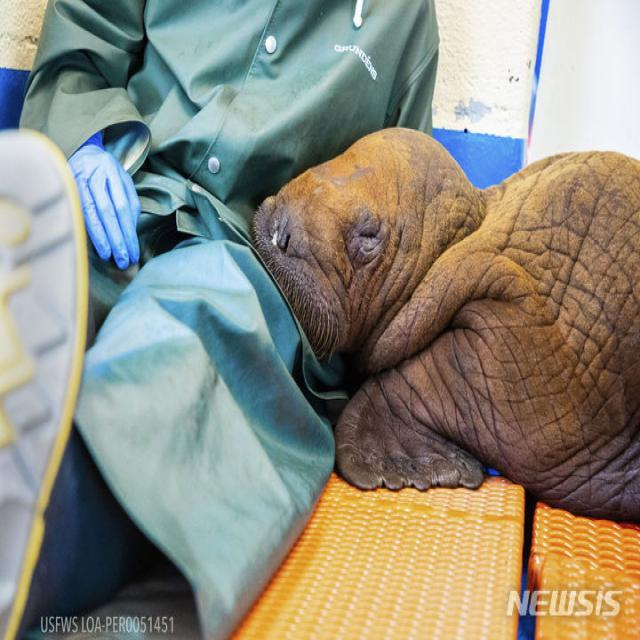walrus: (215, 101, 629, 526)
